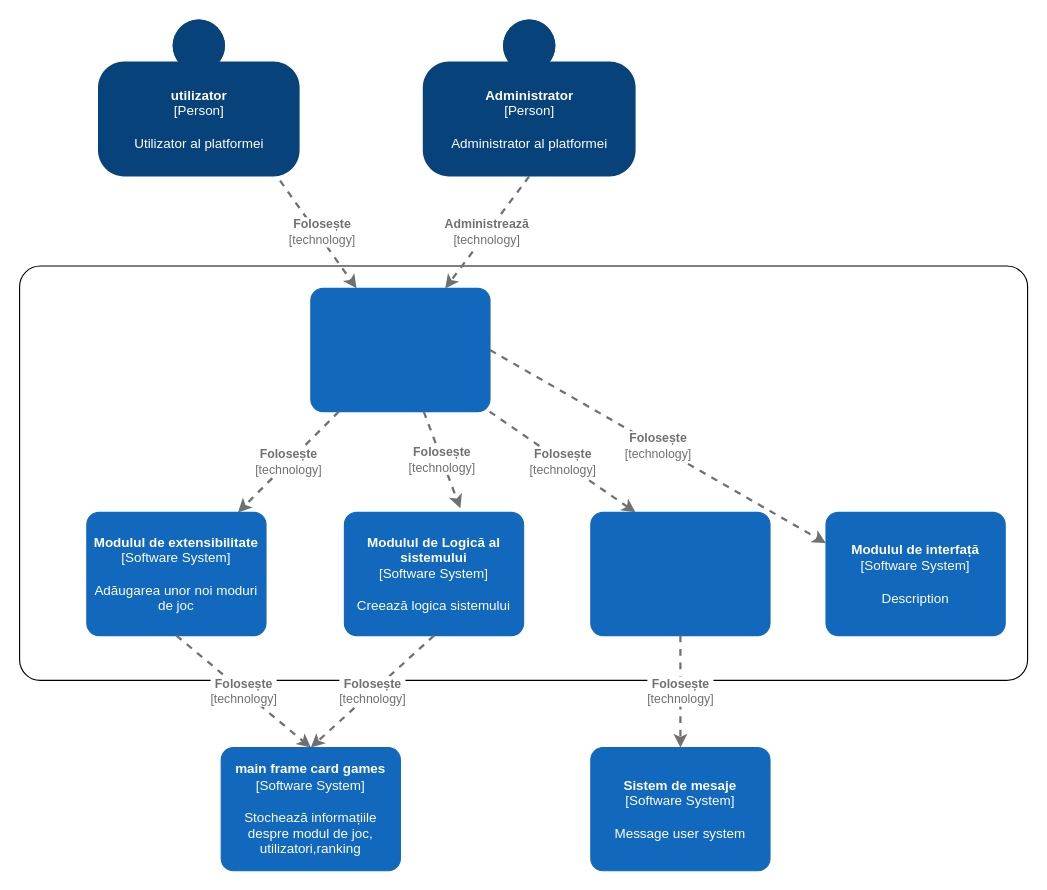
The diagram is 1047 pixels wide and 890 high, and some of its shapes have lost their labels. Each missing label, with the box of its shape:
Modulul de Comunicare [Software System] Realizeaza comunicarea intre utilizatori: (590, 511, 770, 636)
Sistem jocuri de cărți [Software System]: (18, 265, 1028, 680)
Standalone Desktop Application [Software System] Description: (310, 287, 490, 412)
